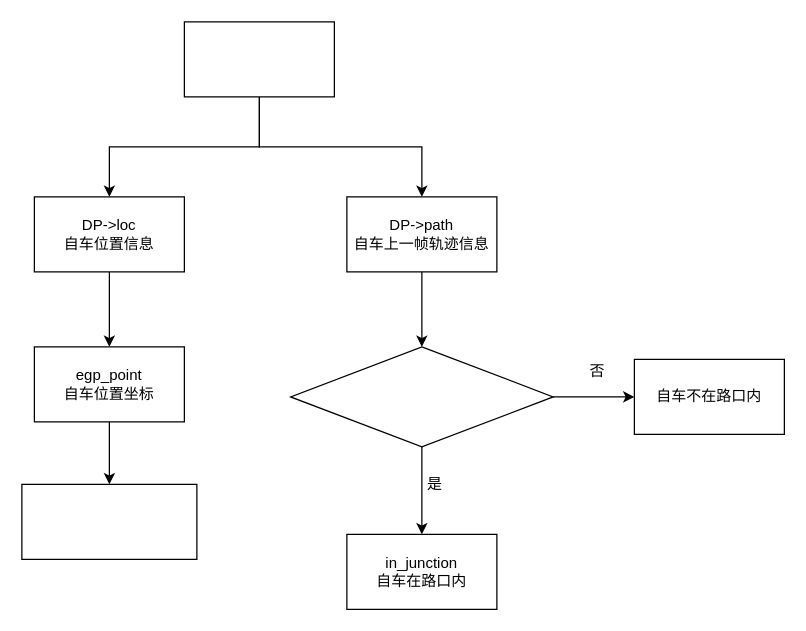
Some shapes in this 806 by 631 pixel diagram are drawn without their labels. Here are the shapes that lost their labels. From the top down, the centre of each, then its label:
At point 258,59: "DataPool".
At point 421,396: "判断轨迹点是否在junction内".
At point 109,521: "SetEgoParallelLanes() 获取自车所在车道信息".
